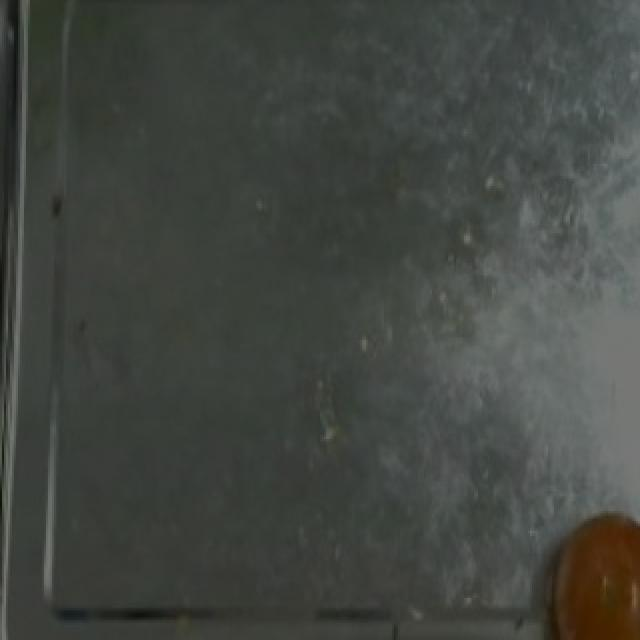Fruit: (520, 493, 640, 640)
